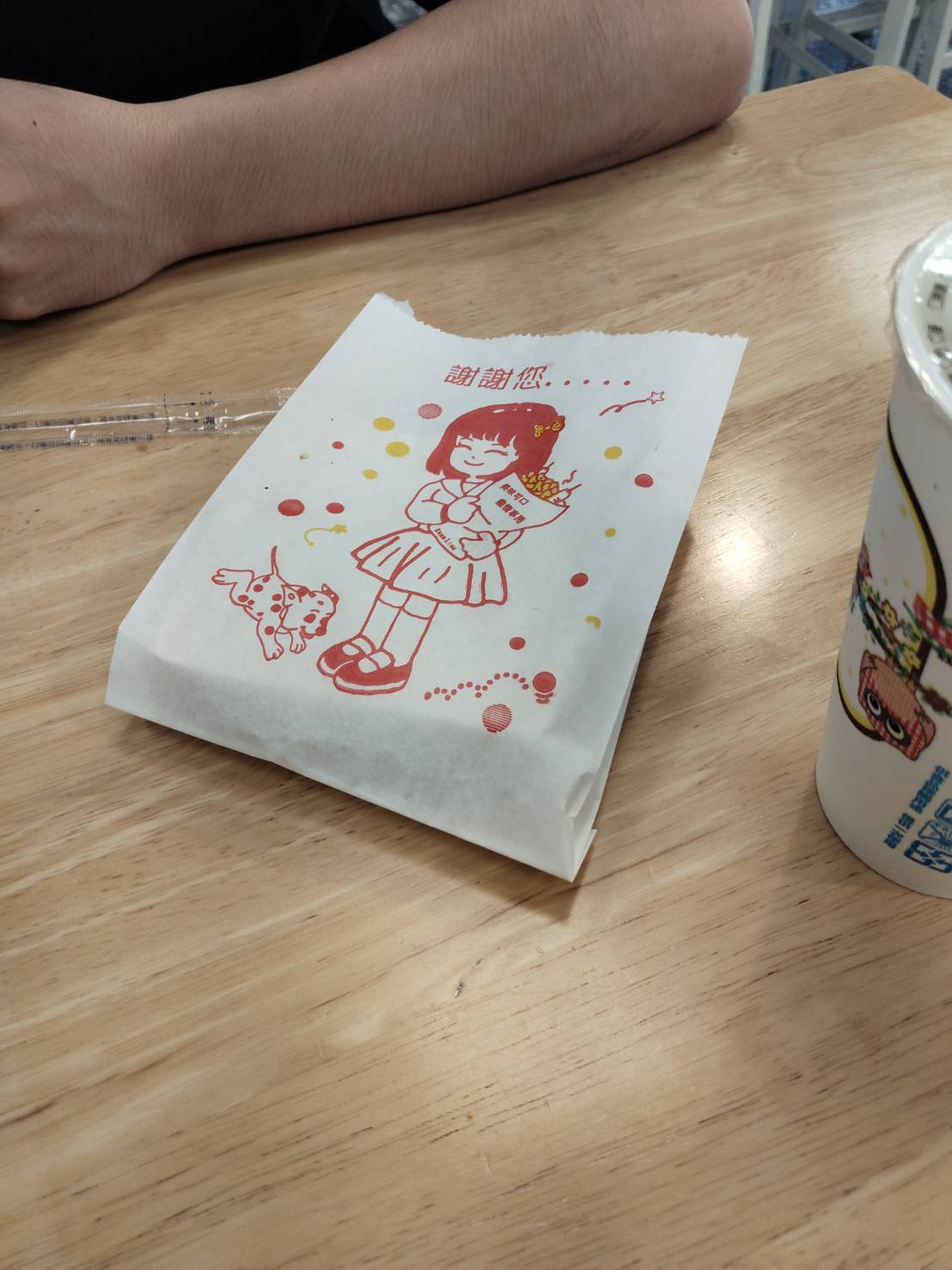General waste: (5, 389, 317, 463)
paper: (69, 200, 794, 949), (802, 159, 952, 938)
